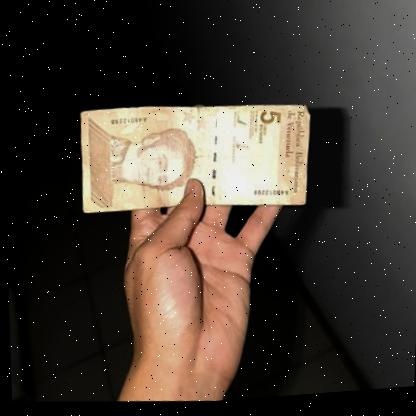five-front-vef: (72, 94, 312, 231)
